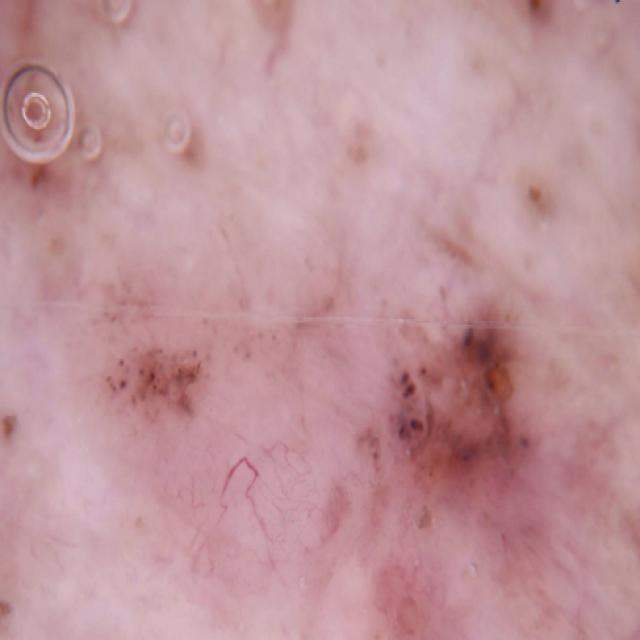Carcinoma: (356, 291, 569, 493), (102, 323, 265, 464)
